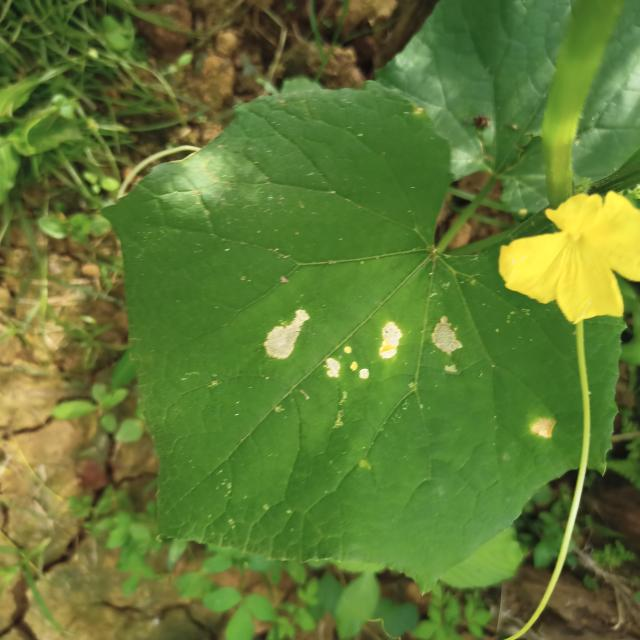disease_cucumber: (262, 306, 469, 384), (527, 416, 556, 442)
